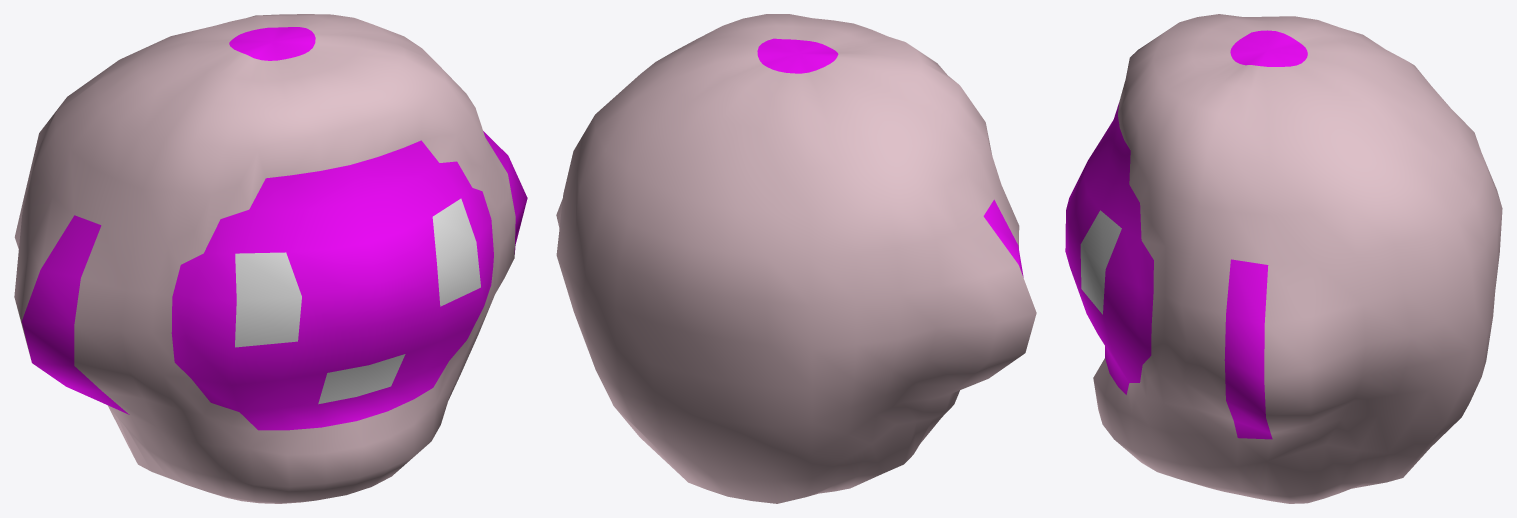
Rendered from head-p.gltf.
3 renders of one model, left to right at view 1: azimuth 30°, elevation 25°; view 2: azimuth 150°, elevation 25°; view 3: azimuth 270°, elevation 25°, orthographic. The views are drawn at different scales.
Visible parts, largest first — view 1: Sphere; view 2: Sphere; view 3: Sphere.
Part boxes in pixels (box(x1,y1,x2,y2)): Sphere: box(14, 14, 527, 503); Sphere: box(556, 14, 1036, 503); Sphere: box(1065, 14, 1502, 503).
Size of the model in its own units: 2.76 by 2.33 by 2.13.
